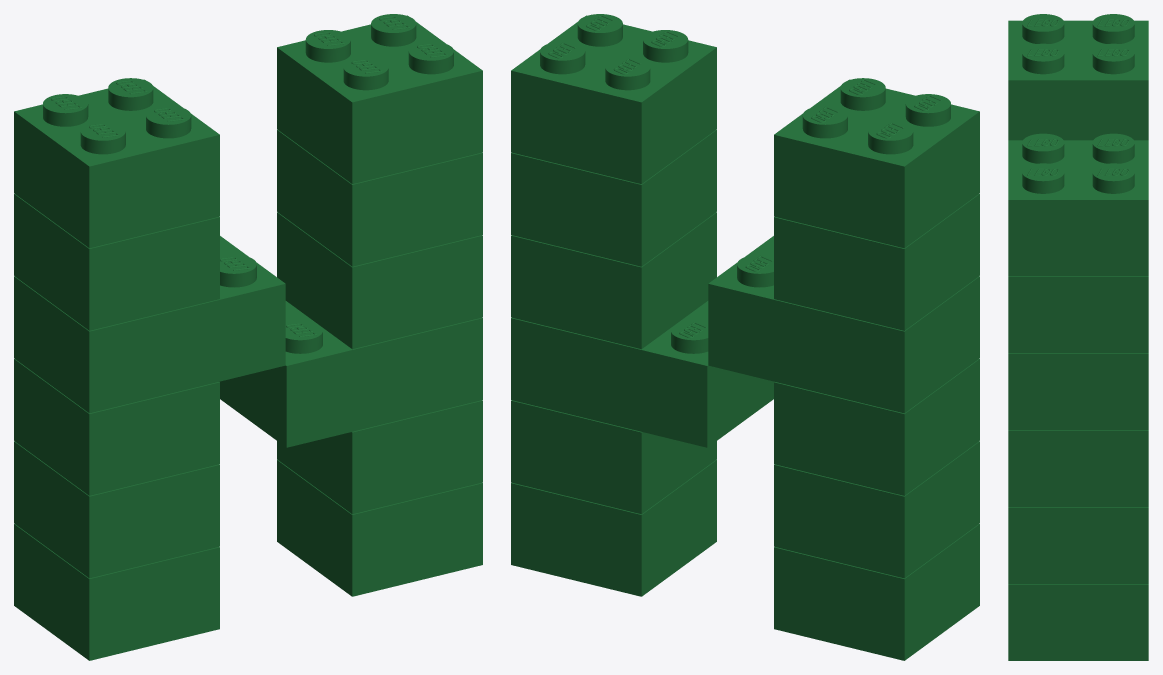
3 renders of one model, left to right at view 1: azimuth 30°, elevation 25°; view 2: azimuth 150°, elevation 25°; view 3: azimuth 270°, elevation 25°, orthographic. The views are drawn at different scales.
Parts seen in each view (by area): view 1: Inner-Node-N_dot_io-6, Inner-Node-N_dot_io-7, Inner-Node-N_dot_io-10, Inner-Node-N_dot_io-11, Inner-Node-N_dot_io-5, Inner-Node-N_dot_io-8, Inner-Node-N_dot_io-2, Inner-Node-N_dot_io-0, Inner-Node-N_dot_io-9, Inner-Node-N_dot_io-1, Inner-Node-N_dot_io-4, Inner-Node-N_dot_io-3; view 2: Inner-Node-N_dot_io-6, Inner-Node-N_dot_io-7, Inner-Node-N_dot_io-10, Inner-Node-N_dot_io-11, Inner-Node-N_dot_io-5, Inner-Node-N_dot_io-8, Inner-Node-N_dot_io-2, Inner-Node-N_dot_io-0, Inner-Node-N_dot_io-9, Inner-Node-N_dot_io-1, Inner-Node-N_dot_io-4, Inner-Node-N_dot_io-3; view 3: Inner-Node-N_dot_io-7, Inner-Node-N_dot_io-6, Inner-Node-N_dot_io-0, Inner-Node-N_dot_io-3, Inner-Node-N_dot_io-4, Inner-Node-N_dot_io-5, Inner-Node-N_dot_io-11.
Boxes of the visible parts, bbox=[...] form: Inner-Node-N_dot_io-6: bbox=[14, 78, 219, 248]; Inner-Node-N_dot_io-7: bbox=[277, 14, 482, 183]; Inner-Node-N_dot_io-10: bbox=[14, 236, 285, 413]; Inner-Node-N_dot_io-11: bbox=[219, 301, 482, 447]; Inner-Node-N_dot_io-5: bbox=[277, 129, 482, 266]; Inner-Node-N_dot_io-8: bbox=[14, 441, 219, 578]; Inner-Node-N_dot_io-2: bbox=[14, 194, 219, 330]; Inner-Node-N_dot_io-0: bbox=[277, 459, 482, 596]; Inner-Node-N_dot_io-9: bbox=[14, 359, 219, 495]; Inner-Node-N_dot_io-1: bbox=[14, 524, 219, 660]; Inner-Node-N_dot_io-4: bbox=[277, 212, 482, 349]; Inner-Node-N_dot_io-3: bbox=[277, 400, 482, 514]; Inner-Node-N_dot_io-6: bbox=[774, 78, 979, 248]; Inner-Node-N_dot_io-7: bbox=[511, 14, 716, 183]; Inner-Node-N_dot_io-10: bbox=[708, 236, 979, 413]; Inner-Node-N_dot_io-11: bbox=[511, 301, 774, 447]; Inner-Node-N_dot_io-5: bbox=[511, 129, 716, 266]; Inner-Node-N_dot_io-8: bbox=[774, 441, 979, 578]; Inner-Node-N_dot_io-2: bbox=[774, 194, 979, 330]; Inner-Node-N_dot_io-0: bbox=[511, 459, 716, 596]; Inner-Node-N_dot_io-9: bbox=[774, 359, 979, 495]; Inner-Node-N_dot_io-1: bbox=[774, 524, 979, 660]; Inner-Node-N_dot_io-4: bbox=[511, 212, 716, 349]; Inner-Node-N_dot_io-3: bbox=[511, 400, 716, 514]; Inner-Node-N_dot_io-7: bbox=[1008, 133, 1148, 275]; Inner-Node-N_dot_io-6: bbox=[1008, 14, 1148, 140]; Inner-Node-N_dot_io-0: bbox=[1008, 584, 1148, 660]; Inner-Node-N_dot_io-3: bbox=[1008, 507, 1148, 583]; Inner-Node-N_dot_io-4: bbox=[1008, 353, 1148, 429]; Inner-Node-N_dot_io-5: bbox=[1008, 276, 1148, 352]; Inner-Node-N_dot_io-11: bbox=[1008, 430, 1148, 506].
Size of the model in its own units: 120 by 148 by 39.75.
